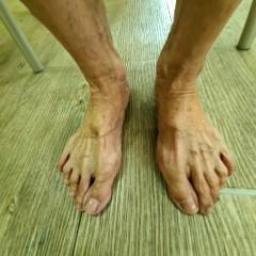Dorsal View -Both Feet-: (36, 40, 250, 232)
